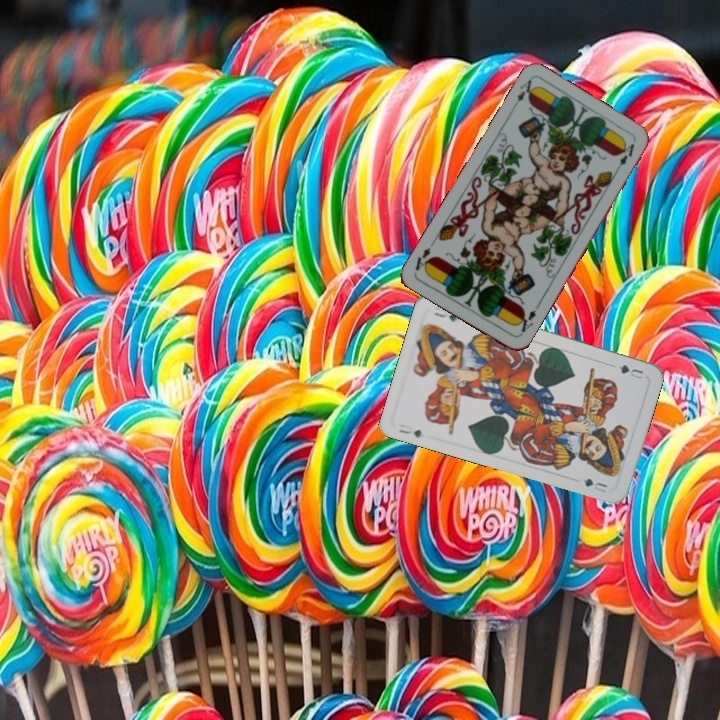EA: (508, 75, 538, 112), (513, 306, 539, 337)
GU: (615, 360, 646, 382), (395, 425, 424, 440)
